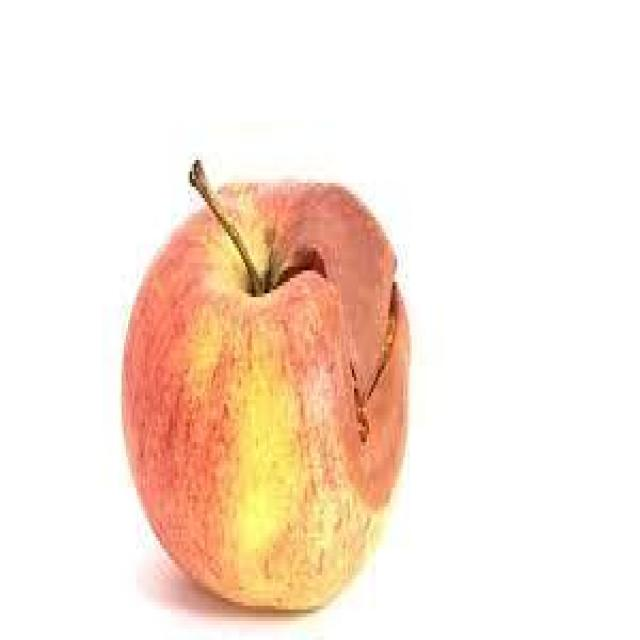maca: (120, 152, 410, 610)
